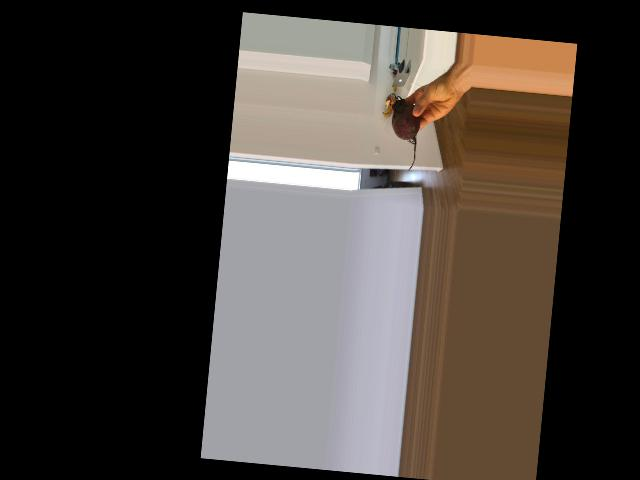beet: (386, 96, 422, 172)
